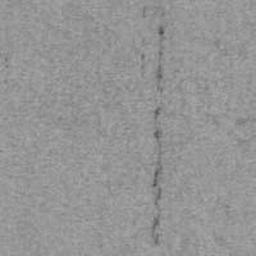Inclusion: (148, 23, 168, 247), (140, 54, 145, 63)
